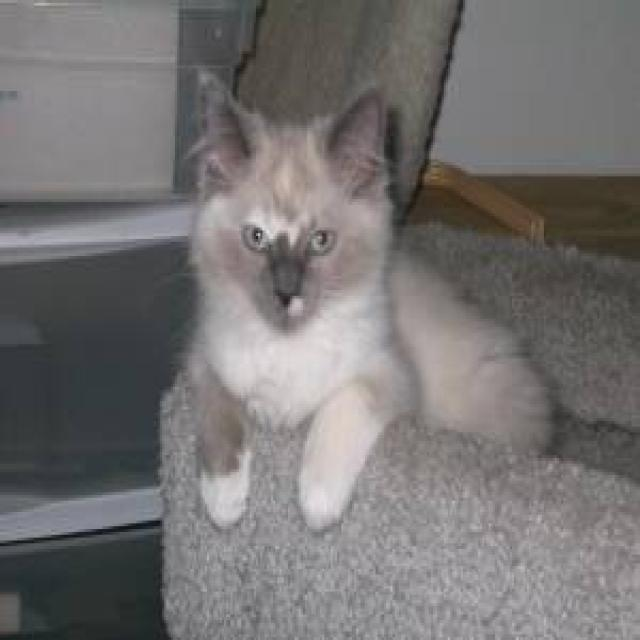Ragdoll: (184, 62, 396, 339)
